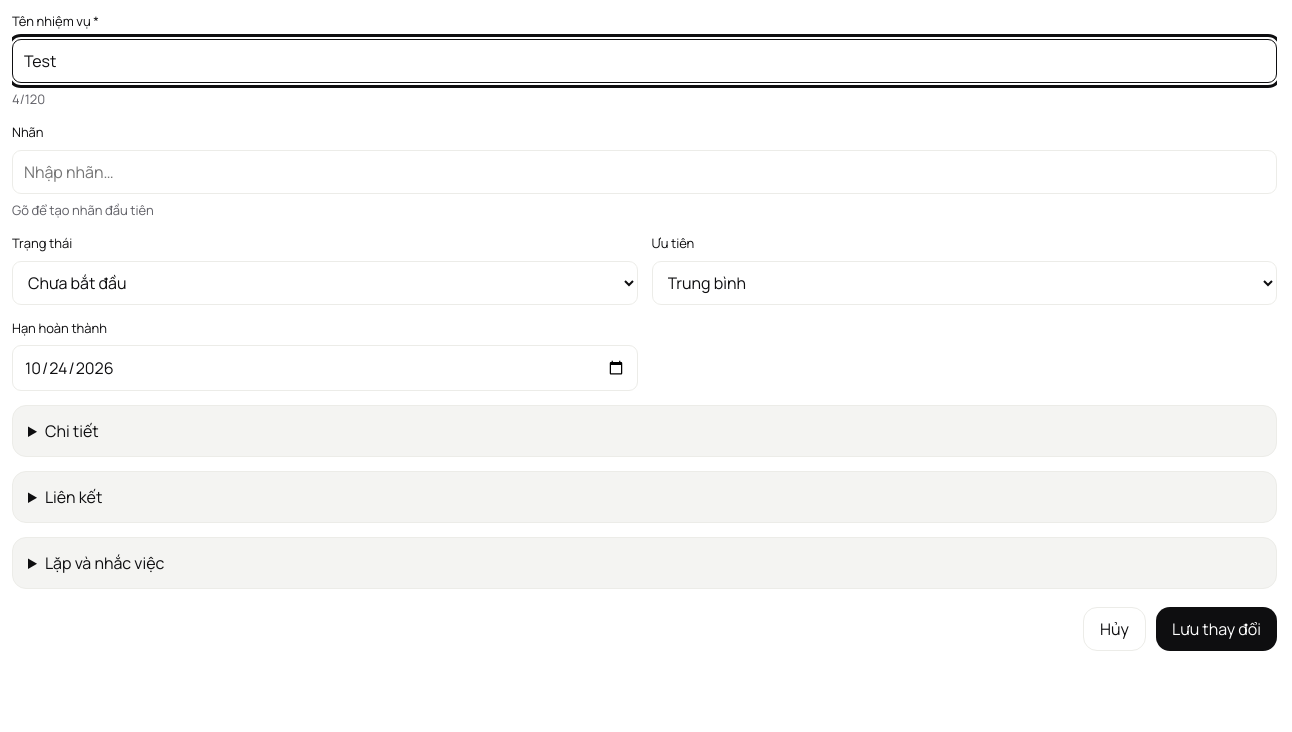
Test case: Form nhiệm vụ › báo hạn trước ngày bắt đầu
Click the button "Lưu thay đổi".
click(1216, 629)  # box x1=1156 y1=607 x2=1277 y2=651
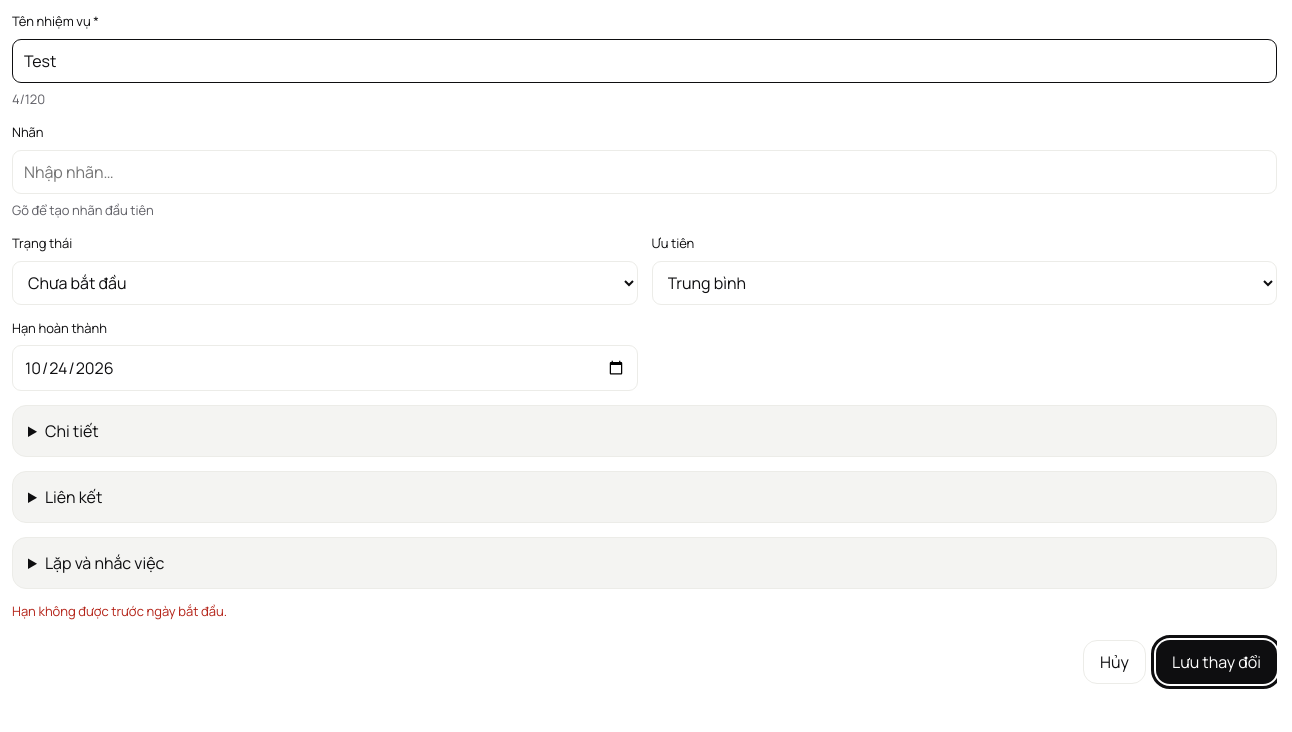
Now the message shows "Hạn không được trước", box x1=12 y1=602 x2=227 y2=620
